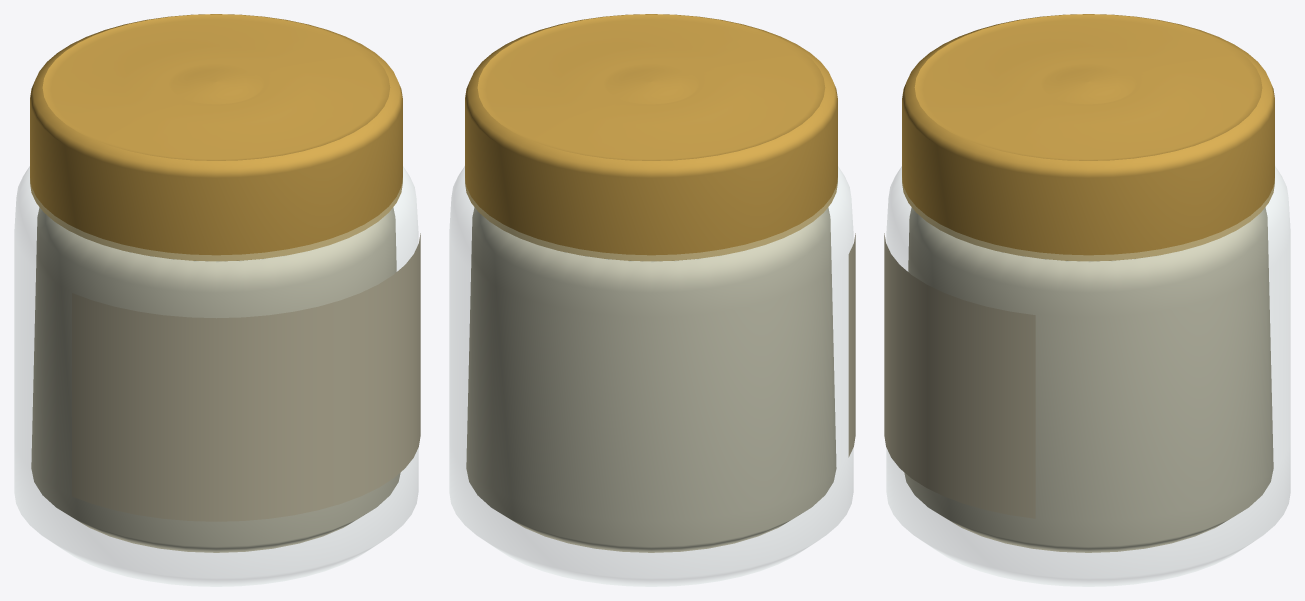
Rendered from jar_classic.glb.
3 views of the same model, side by side, from view 1: azimuth 30°, elevation 25°; view 2: azimuth 150°, elevation 25°; view 3: azimuth 270°, elevation 25° (orthographic).
Visible parts, largest first — view 1: package_mesh; view 2: package_mesh; view 3: package_mesh.
Boxes of the visible parts, bbox=[...] form: package_mesh: bbox=[14, 14, 420, 586]; package_mesh: bbox=[449, 14, 855, 586]; package_mesh: bbox=[884, 14, 1290, 586].
Size of the model in its own units: 0.38 by 0.446 by 0.382.
